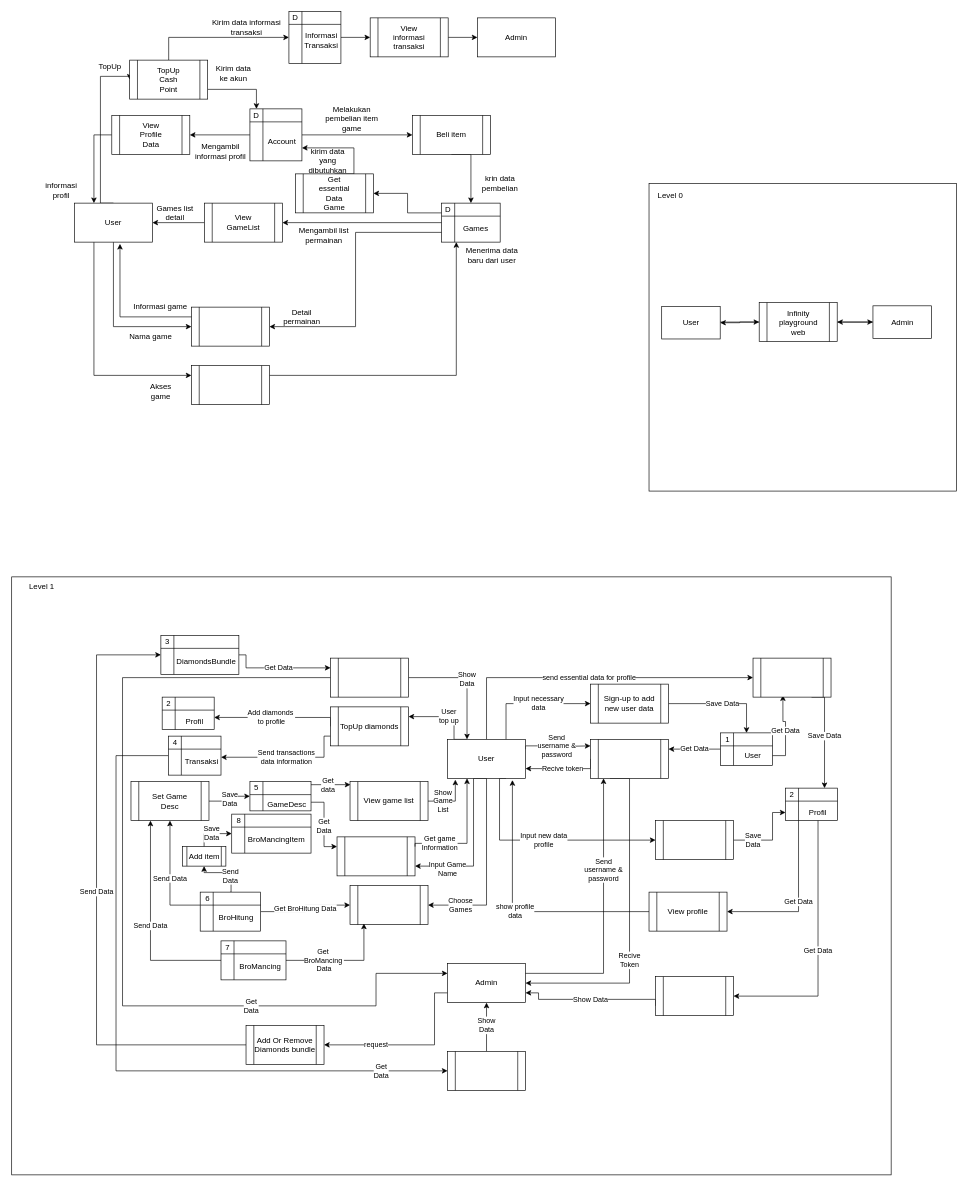
This 968x1186 diagram has some shape labels left out. Each missing label, with the centre of its shape:
"Bermain Game" belongs at [230,385].
"Cari games" belongs at [230,326].
"Create new profile if user exist" belongs at [791,677].
"Edit profile" belongs at [694,840].
"Login to return access & refresh token" belongs at [629,758].
"Playing game" belongs at [388,905].
"Search game" belongs at [375,856].
"View all necessary profile data" belongs at [694,996].
"View diamond bundles list" belongs at [369,677].
"View Transaction" belongs at [486,1070].
